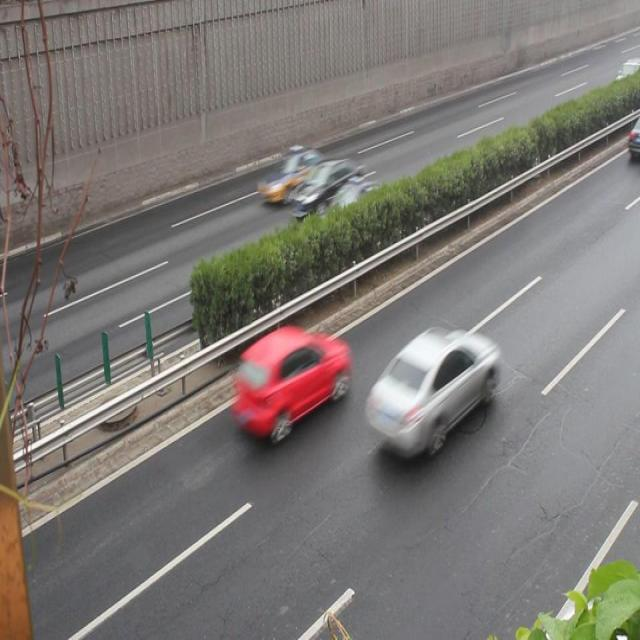car: (368, 328, 500, 459), (232, 322, 350, 438), (289, 158, 366, 219), (259, 146, 328, 204), (318, 180, 387, 237), (624, 116, 640, 160)
